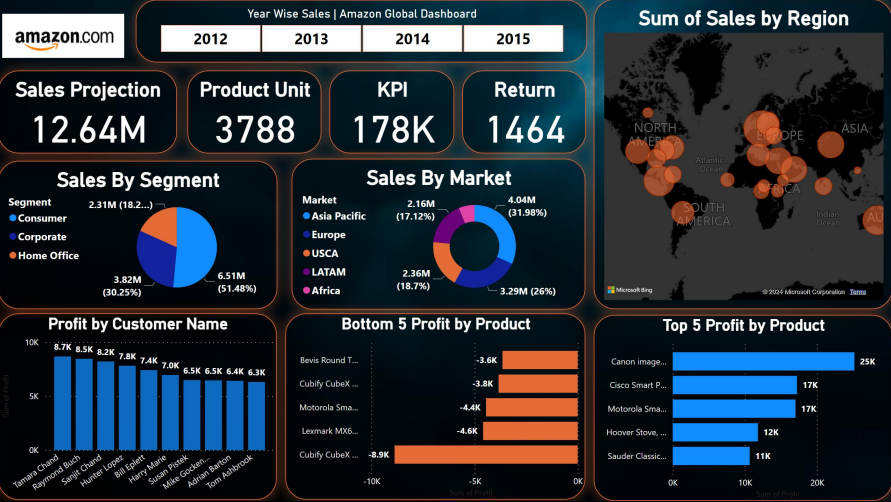

What the dashboard file says about the page in this screenshot:
{"tool":"powerbi","page":{"name":"Report 1","canvas":[1280,720],"ordinal":0},"visuals":[{"type":"slicer","title":"Year Wise Sales | Amazon Global Dashboard","fields":{"Values":["Orders.Year"]},"box":[196.6,3.6,645.4,89.4],"z":0},{"type":"card","title":"KPI ","fields":{"Values":["Orders.Quantity"]},"box":[474.1,105.4,178.5,118.5],"z":1000},{"type":"image","box":[0,19,185.9,73.2],"z":2000},{"type":"card","title":"Product Unit","fields":{"Values":["Orders.Product Name"]},"box":[270.7,105.4,191.7,118.5],"z":3000},{"type":"card","title":"Sales Projection","fields":{"Values":["Orders.Sales"]},"box":[0,105.4,256.1,118.5],"z":4000},{"type":"card","title":"Return","fields":{"Values":["Orders.Ship Date"]},"box":[664.4,105.4,177.1,118.5],"z":5000},{"type":"pieChart","title":"Sales By Segment","fields":{"Category":["Orders.Segment"],"Y":["Orders.Sales"]},"box":[0,234.1,399.5,212.2],"z":6000},{"type":"donutChart","title":"Sales By Market","fields":{"Y":["Orders.Sales"],"Category":["Orders.Market"]},"box":[420,230.8,420,215.4],"z":7000},{"type":"columnChart","title":"Profit by Customer Name","fields":{"Category":["Orders.Customer Name"],"Y":["Orders.Profit"]},"box":[0,452.3,398.7,266.4],"z":8000},{"type":"clusteredBarChart","title":"Bottom 5 Profit by Product","fields":{"Y":["Orders.Profit"],"Category":["Orders.Product Name"]},"box":[410.8,452.3,429.2,266.2],"z":9000},{"type":"clusteredBarChart","title":"Top 5 Profit by Product","fields":{"Category":["Orders.Product Name"],"Y":["Orders.Profit"]},"box":[852.3,453.8,427.7,266.2],"z":10000},{"type":"map","fields":{"Category":["Orders.Region"],"Size":["Orders.Sales"]},"box":[852.3,3.1,427.7,443.1],"z":11000}]}

Visuals, with their boxes in screenshot pixels (x1, y1, x2, y2), scaled from the page's 1280x720 canvas onto the 891x502 screenshot:
"Year Wise Sales | Amazon Global Dashboard" slicer: bbox=[137, 3, 586, 65]
"KPI " card: bbox=[330, 73, 454, 156]
image: bbox=[0, 13, 129, 64]
"Product Unit" card: bbox=[188, 73, 322, 156]
"Sales Projection" card: bbox=[0, 73, 178, 156]
"Return" card: bbox=[462, 73, 586, 156]
"Sales By Segment" pieChart: bbox=[0, 163, 278, 311]
"Sales By Market" donutChart: bbox=[292, 161, 585, 311]
"Profit by Customer Name" columnChart: bbox=[0, 315, 278, 501]
"Bottom 5 Profit by Product" clusteredBarChart: bbox=[286, 315, 585, 501]
"Top 5 Profit by Product" clusteredBarChart: bbox=[593, 316, 890, 501]
map - Orders.Region x Orders.Sales: bbox=[593, 2, 890, 311]
